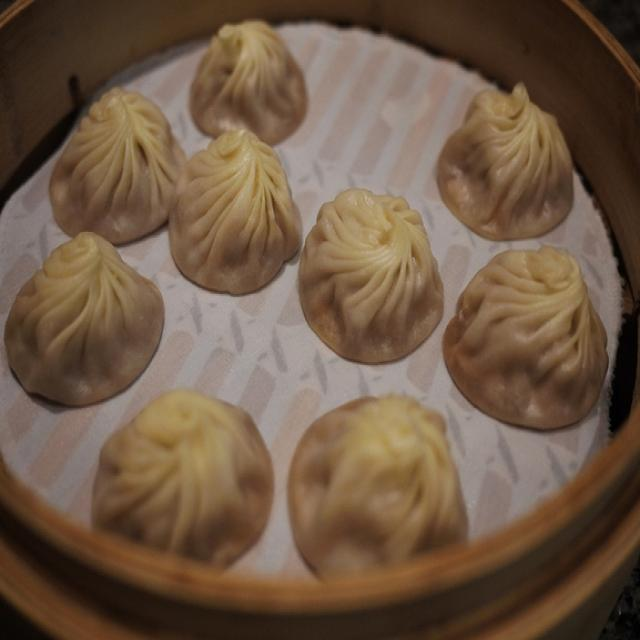带馅早点: (16, 18, 614, 602)
